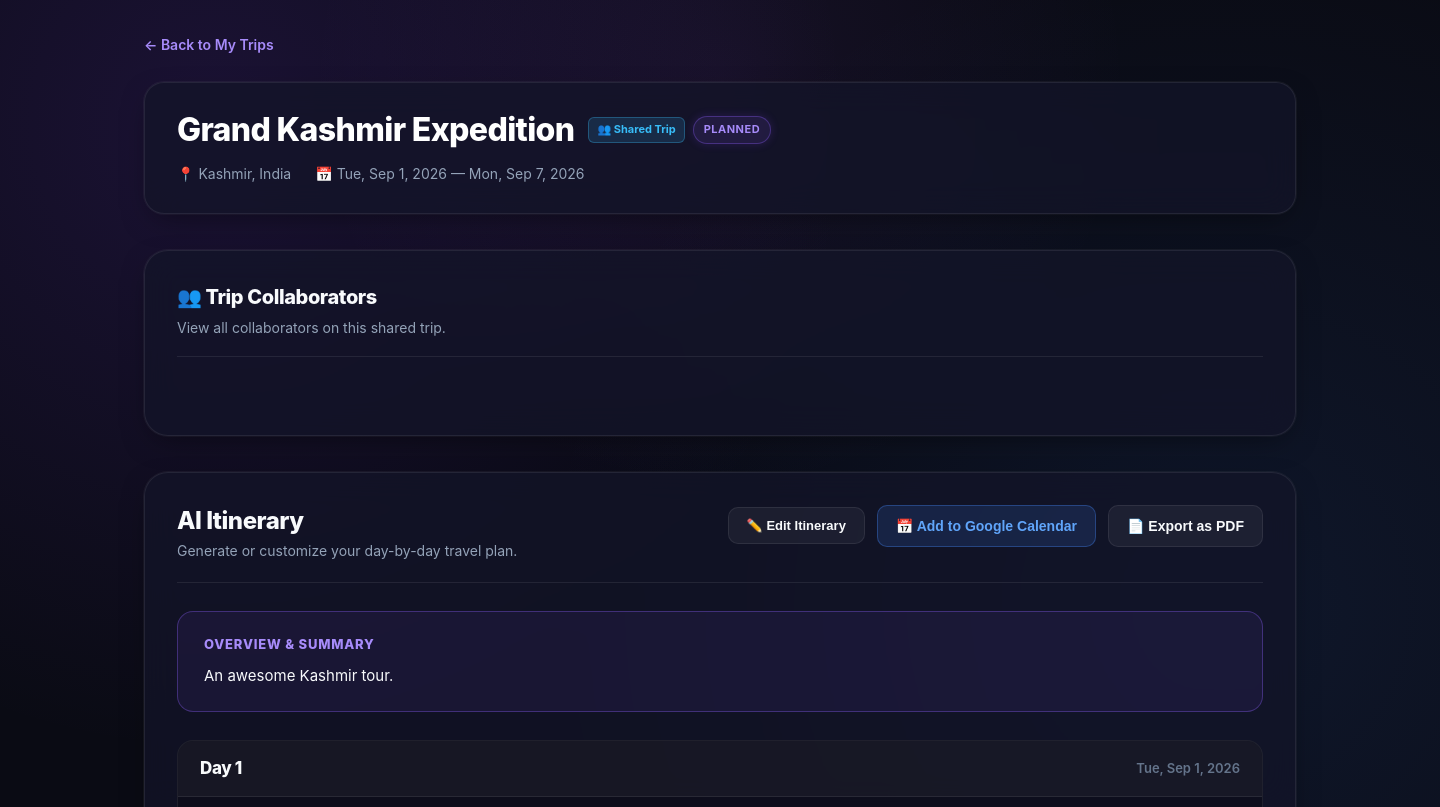
Test: TripDetailsPage Google Calendar & PDF Export › partial failure displays warning banner with failed activity details
The image size is (1440, 807).
Click the button with test id "add-google-calendar-btn": (986, 526) [877,505,1096,547]
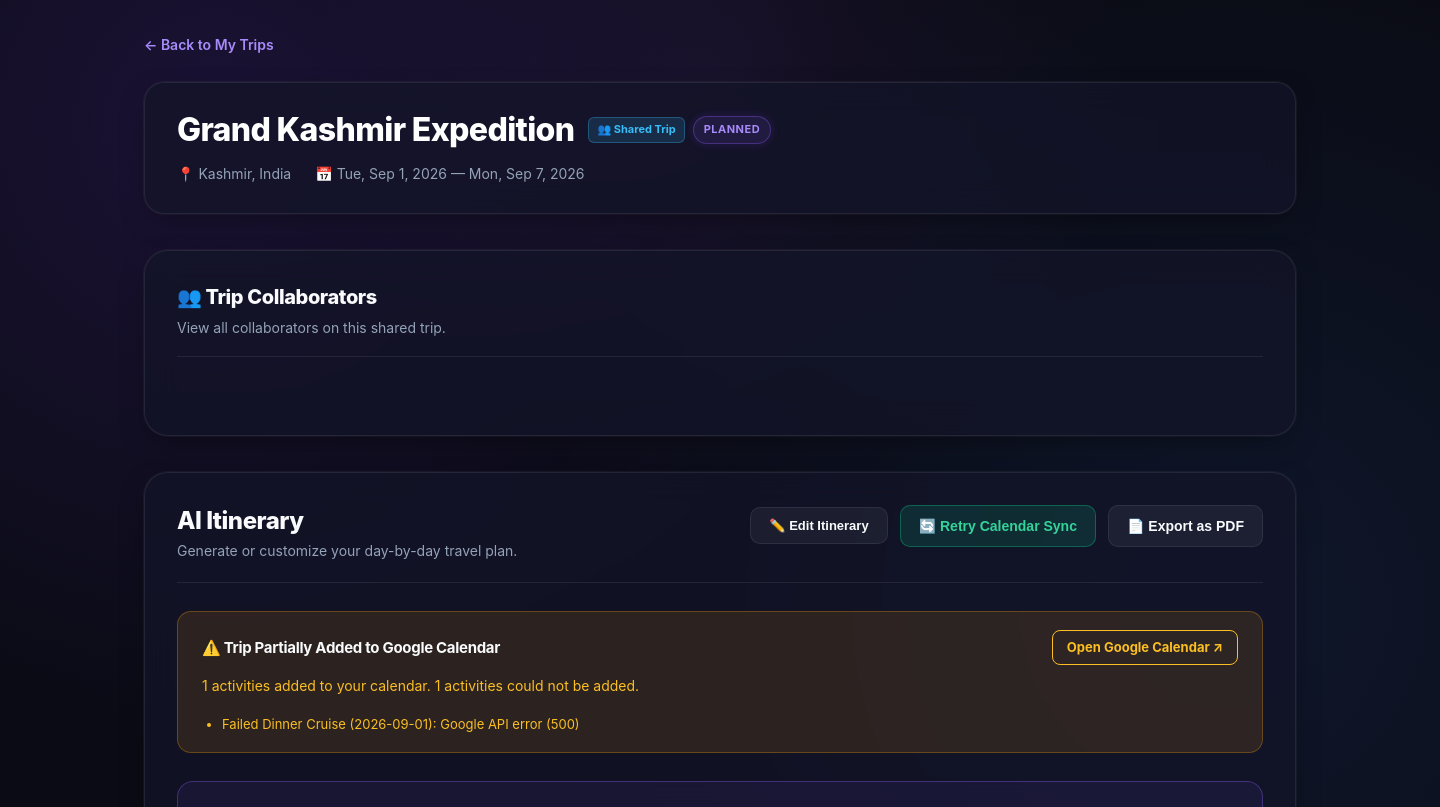
Result: the element with test id "calendar-result-banner" shows "Trip Partially Added to Google Calendar" at [202,638,500,657]
Result: the element with test id "calendar-result-banner" shows "Failed Dinner Cruise" at [222,716,346,732]
